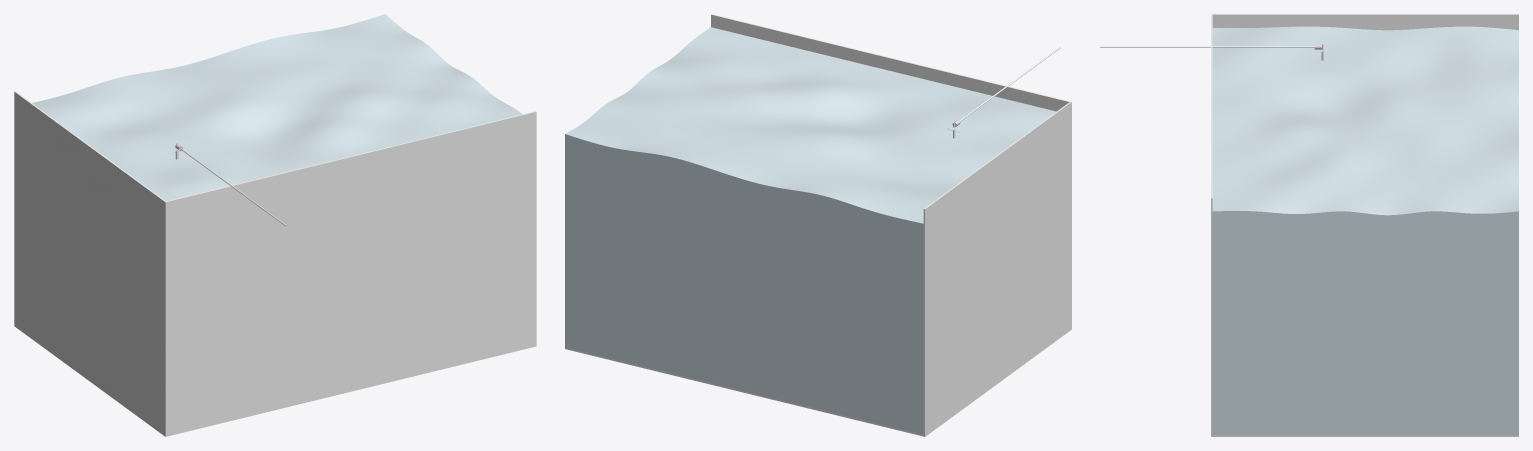
File: windwave.gltf
3 views of the same model, side by side, from view 1: azimuth 30°, elevation 25°; view 2: azimuth 150°, elevation 25°; view 3: azimuth 270°, elevation 25° (orthographic). The views are drawn at different scales.
Visible parts, largest first — view 1: Walls, Water; view 2: Water, Walls; view 3: Water, Walls, 1/2_in_PVC_Pipe.
Part boxes in pixels (x1,y1,x2,y2): Walls: [14, 91, 536, 436]; Water: [32, 14, 522, 201]; Water: [565, 27, 1056, 434]; Walls: [565, 14, 1071, 436]; Water: [1212, 26, 1518, 435]; Walls: [1211, 14, 1518, 436]; 1/2_in_PVC_Pipe: [1100, 46, 1314, 47].
Size of the model in its own units: 6.1 by 3.72 by 5.85.
